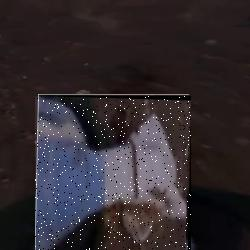restaffald: (35, 96, 191, 250)
